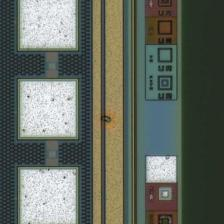PIQ PARTICLE: (98, 111, 114, 127)
